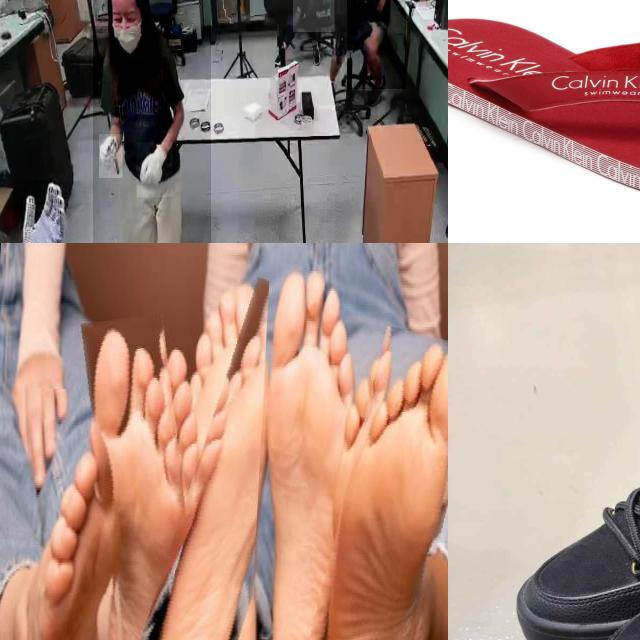Barefoots: (228, 261, 365, 640), (332, 305, 448, 640), (92, 327, 212, 640), (167, 281, 271, 640), (25, 465, 133, 640)
Sandals: (500, 243, 640, 640), (448, 14, 640, 216)
face_mask: (103, 0, 144, 58)
hand_glove: (13, 180, 71, 243), (136, 142, 172, 198), (99, 134, 123, 178)
hand_noglove: (374, 0, 386, 17)
person: (92, 0, 211, 243), (347, 0, 406, 89), (293, 0, 335, 33)
